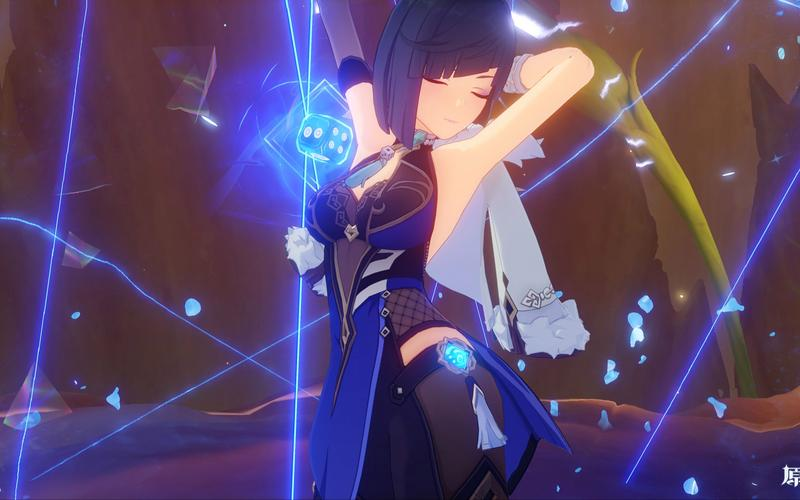夜兰: (301, 1, 593, 500)
